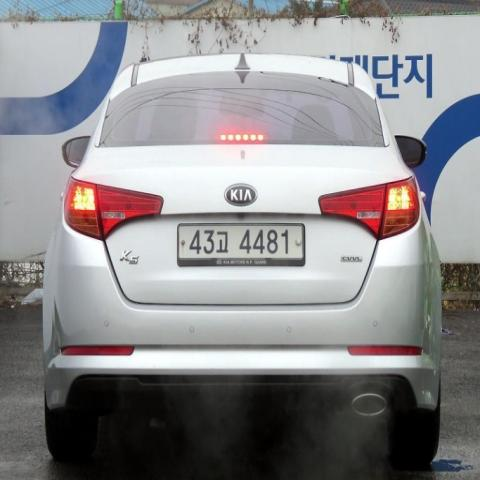LP: (172, 218, 310, 271)
